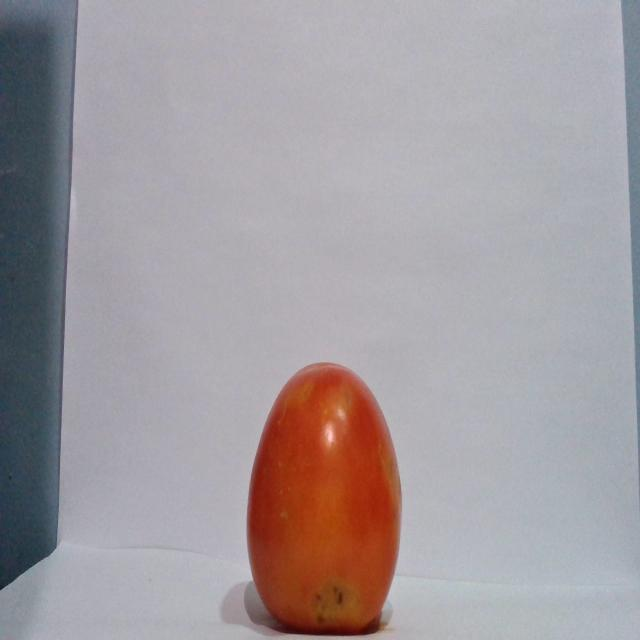Red: (244, 360, 403, 634)
